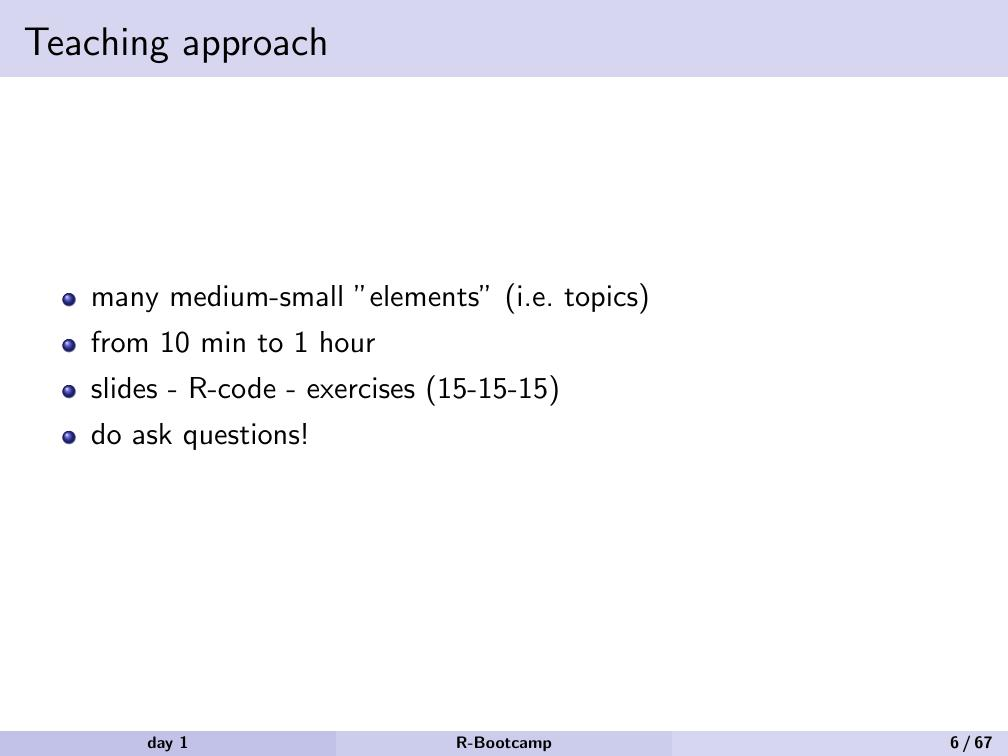Title: (17, 15, 342, 72)
